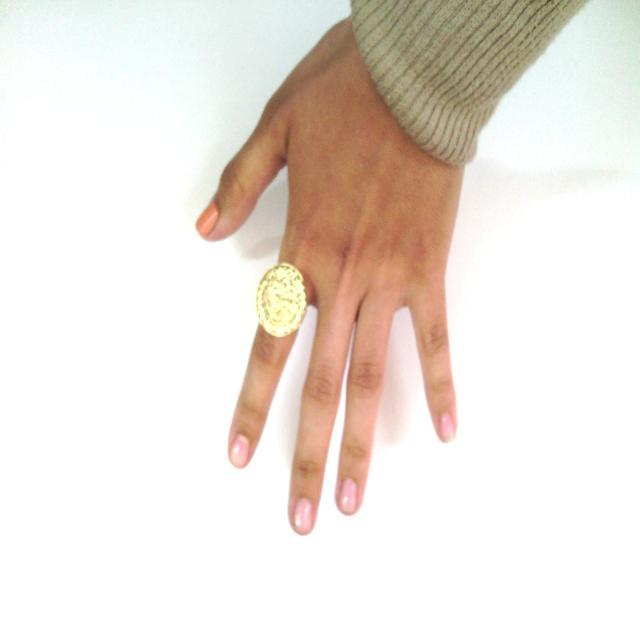Fingernail: (197, 202, 218, 234), (294, 498, 312, 532), (340, 479, 357, 512), (231, 435, 249, 465), (440, 413, 454, 441)
